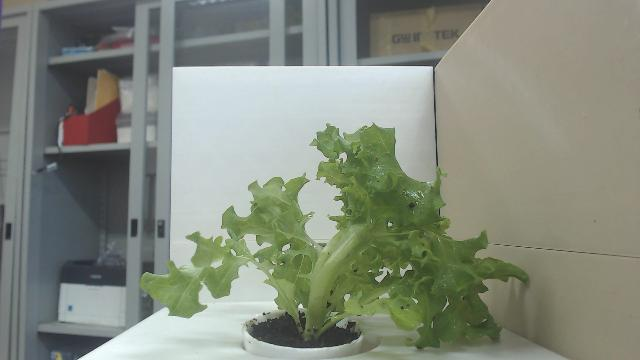Harvest Stage: (138, 120, 530, 352)
